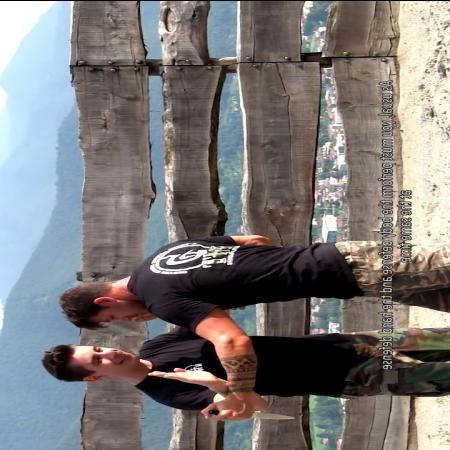long weapon: (199, 402, 297, 422)
